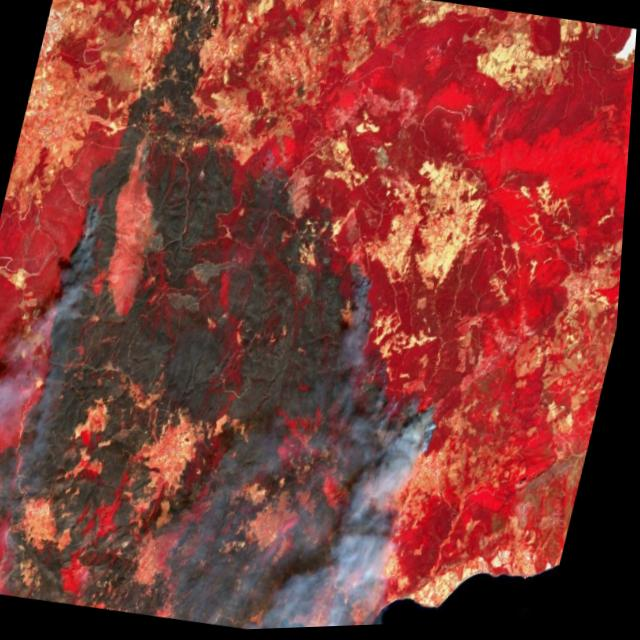fire: (148, 128, 504, 635), (0, 140, 162, 604)
